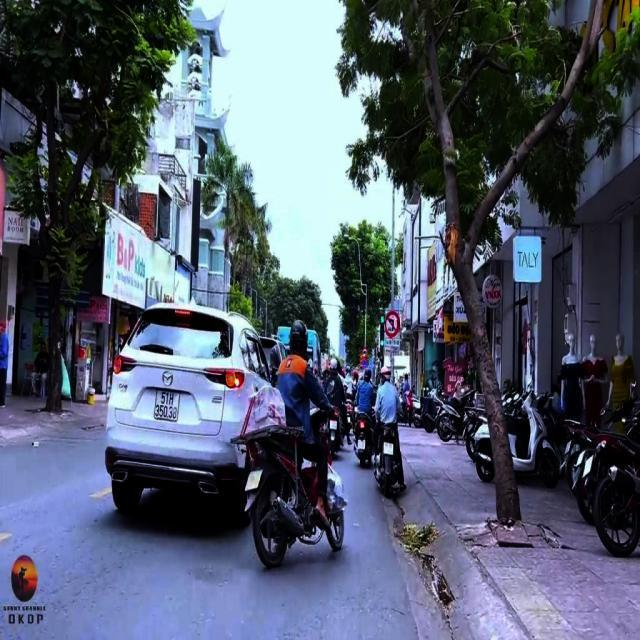106-cam-oto-tai: (362, 348, 368, 358)
123a-cam-re-trai: (384, 311, 402, 338)
